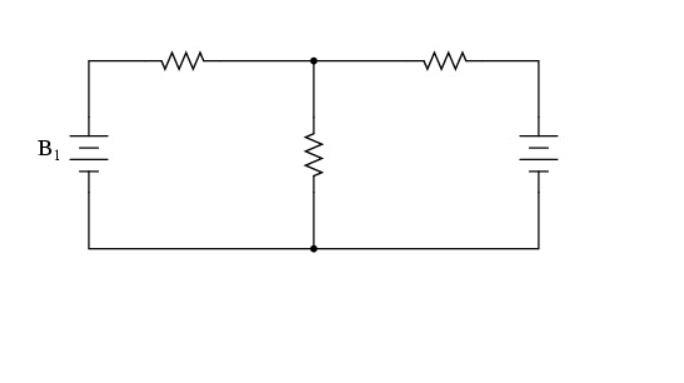resistor: (284, 121, 338, 202), (410, 40, 484, 81), (147, 38, 221, 74)
